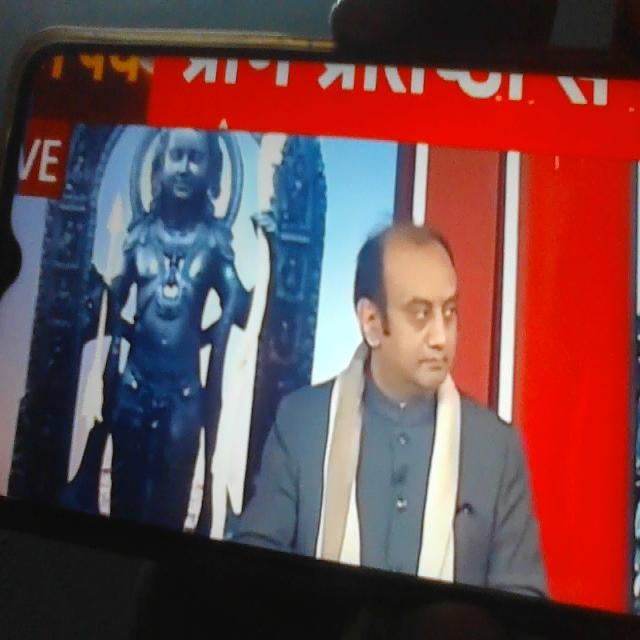fake: (359, 188, 477, 412)
